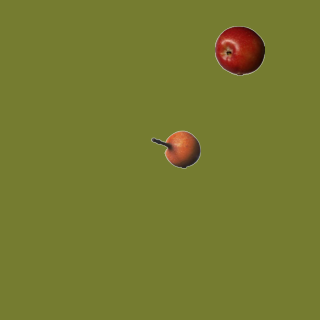Apple Braeburn: (214, 25, 264, 75)
Granadilla: (150, 124, 200, 174)
